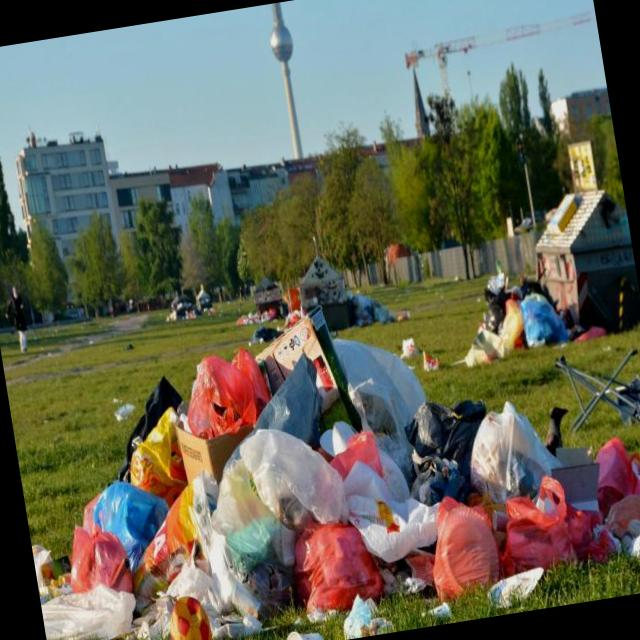high trash: (32, 309, 640, 640)
less trash: (464, 273, 569, 367), (401, 337, 419, 357), (423, 352, 440, 371)
